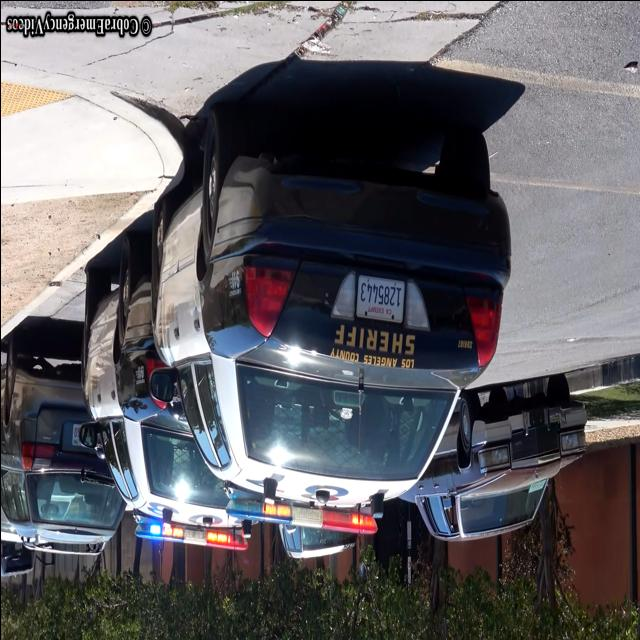emergency-vehicles: (156, 124, 524, 542)
